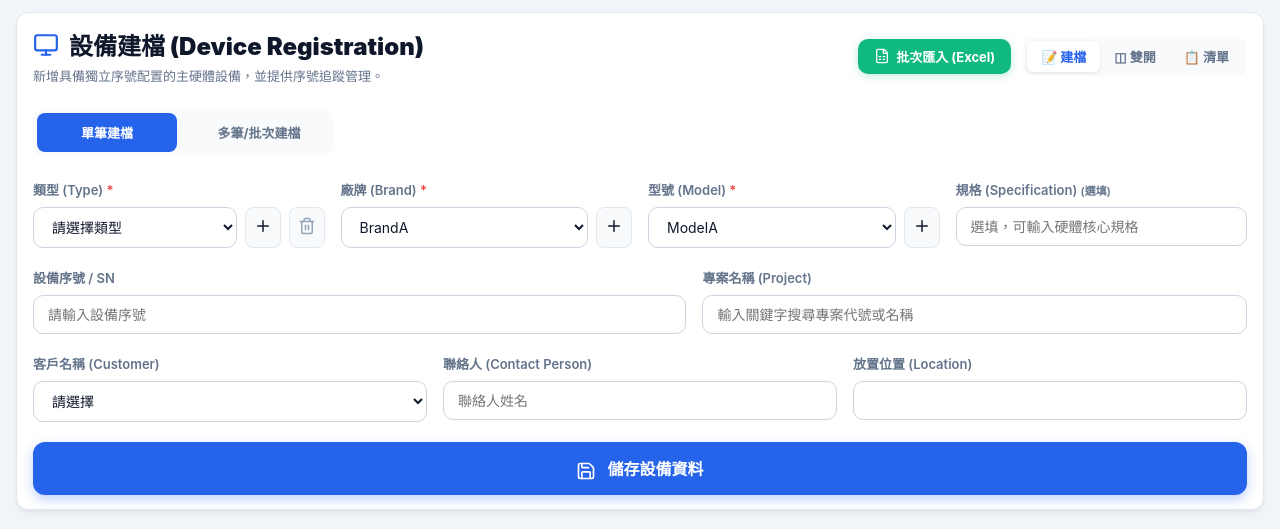
Test: 設備建檔聯絡人連動整合測試 › 選擇僅有單一聯絡人的客戶時，應能自動帶入聯絡人姓名
// 選擇單一聯絡人客戶
Select "客戶A-單一聯絡人" in the dropdown labelled "客戶名稱 (Customer)" at {"x": 230, "y": 402}, box [33,381,427,422]
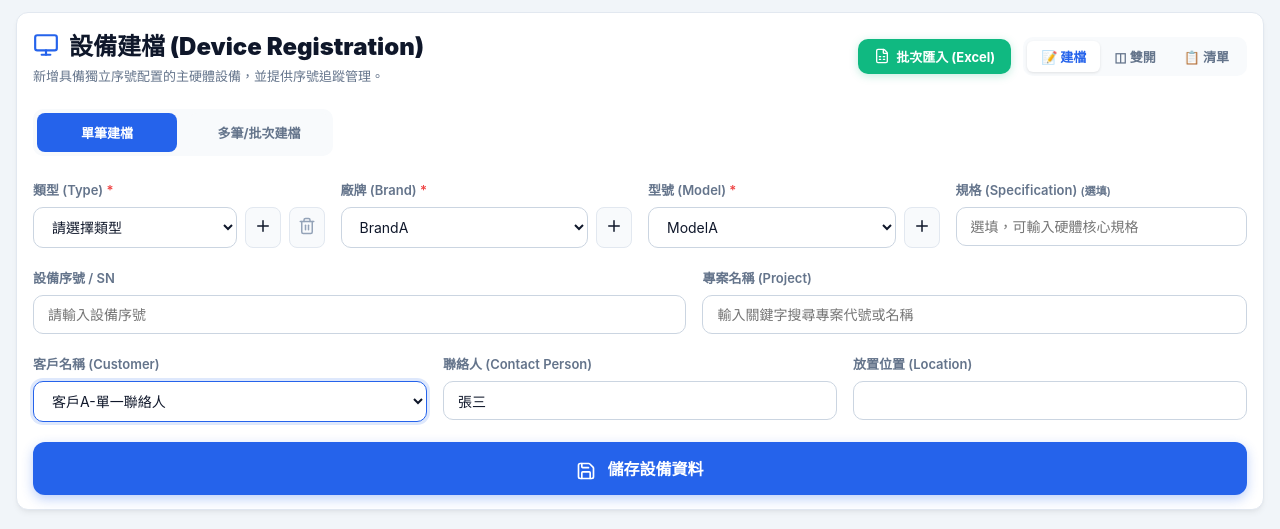
Result: the field with placeholder "聯絡人姓名" holds "張三" at [443,381,837,420]
